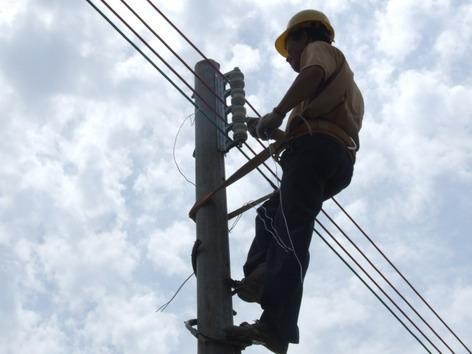helmet: (269, 6, 337, 73)
